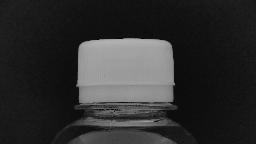Good Cap: (72, 35, 180, 115)
